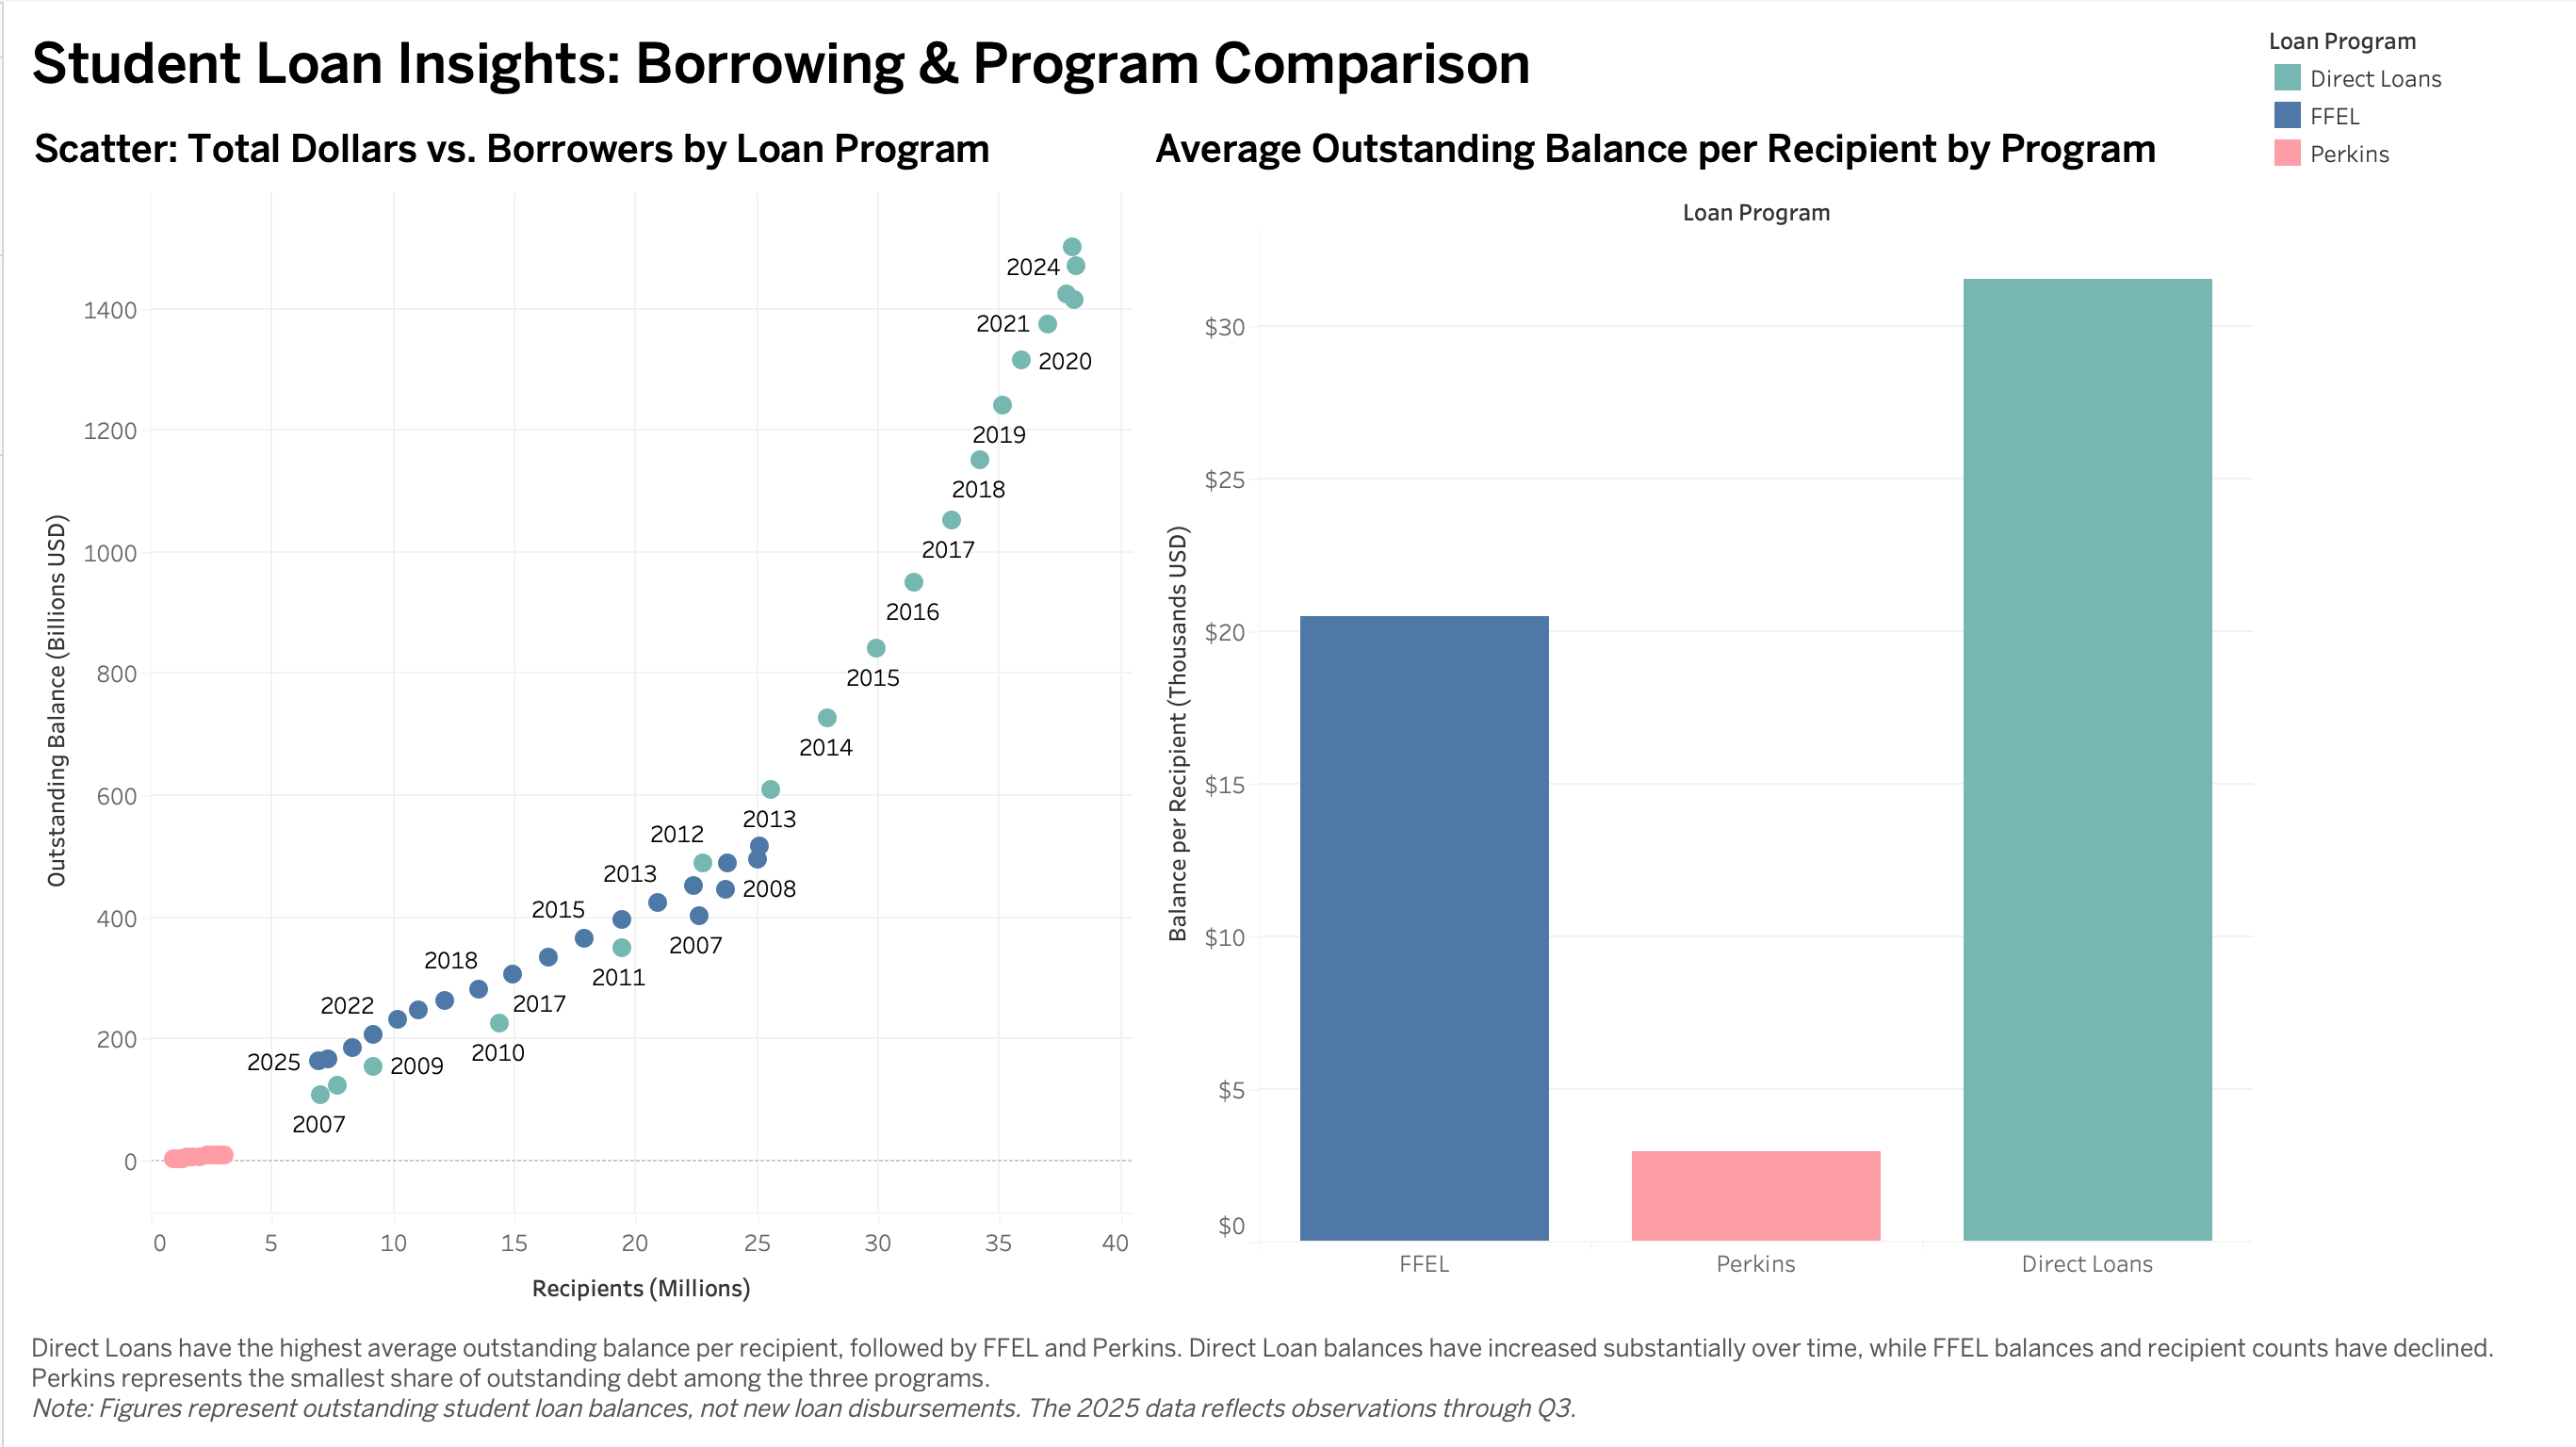

What the dashboard file says about the page in this screenshot:
{"tool":"tableau","page":{"name":"Program Comparison & Borrowing Analysis","canvas":[1366,768],"ordinal":0},"visuals":[{"type":"title","box":[8,8,1190,50]},{"type":"legend","title":"Scatter Plot: Dollars vs. Recipients","param":"[federated.1u6jw181gi2bki1c1x1nw0h41xzg].[none:Loan Program:nk]","box":[1198,8,160,86]},{"type":"worksheet","title":"Scatter Plot: Dollars vs. Recipients","mark":"Circle","rows":["Dollars"],"cols":["Recipients"],"box":[8,58,595,644]},{"type":"worksheet","title":"Bar Chart: Avg Dollars per Recipient by Program","mark":"Bar","rows":["Calculation_2475290958358171649"],"cols":["Loan Program"],"box":[603,58,595,644]},{"type":"text","box":[8,702,1350,58]}]}

Visuals, with their boxes in screenshot pixels (x1, y1, x2, y2), scaled from the page's 1366x768 canvas onto the 2576x1447 screenshot:
title: [15, 15, 2259, 109]
"Scatter Plot: Dollars vs. Recipients" legend: [2259, 15, 2561, 177]
"Scatter Plot: Dollars vs. Recipients" worksheet (Circle marks): [15, 109, 1137, 1323]
"Bar Chart: Avg Dollars per Recipient by Program" worksheet (Bar marks): [1137, 109, 2259, 1323]
text: [15, 1323, 2561, 1432]
